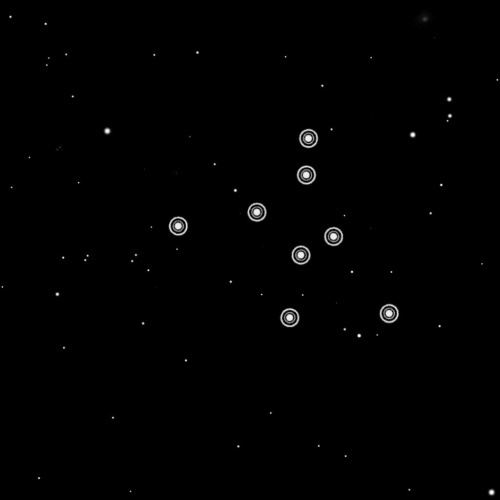hercules: (165, 123, 404, 336)
